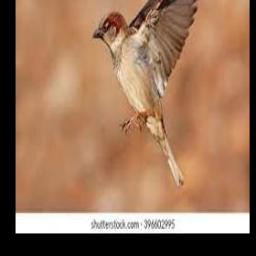Sparrow: (91, 0, 204, 186)
